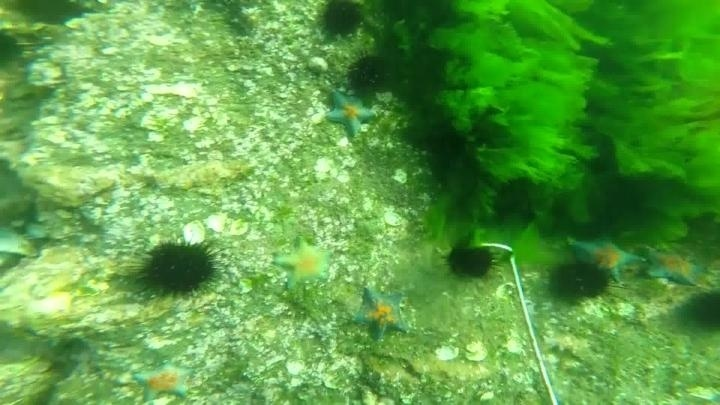echinus: (133, 238, 221, 301), (546, 259, 613, 305), (444, 241, 497, 282), (345, 51, 392, 95), (315, 1, 366, 40), (683, 287, 720, 333), (1, 27, 26, 69)
starfish: (568, 235, 643, 284), (350, 284, 413, 342), (272, 235, 334, 291), (130, 359, 198, 403), (322, 88, 377, 140), (643, 248, 706, 289)
